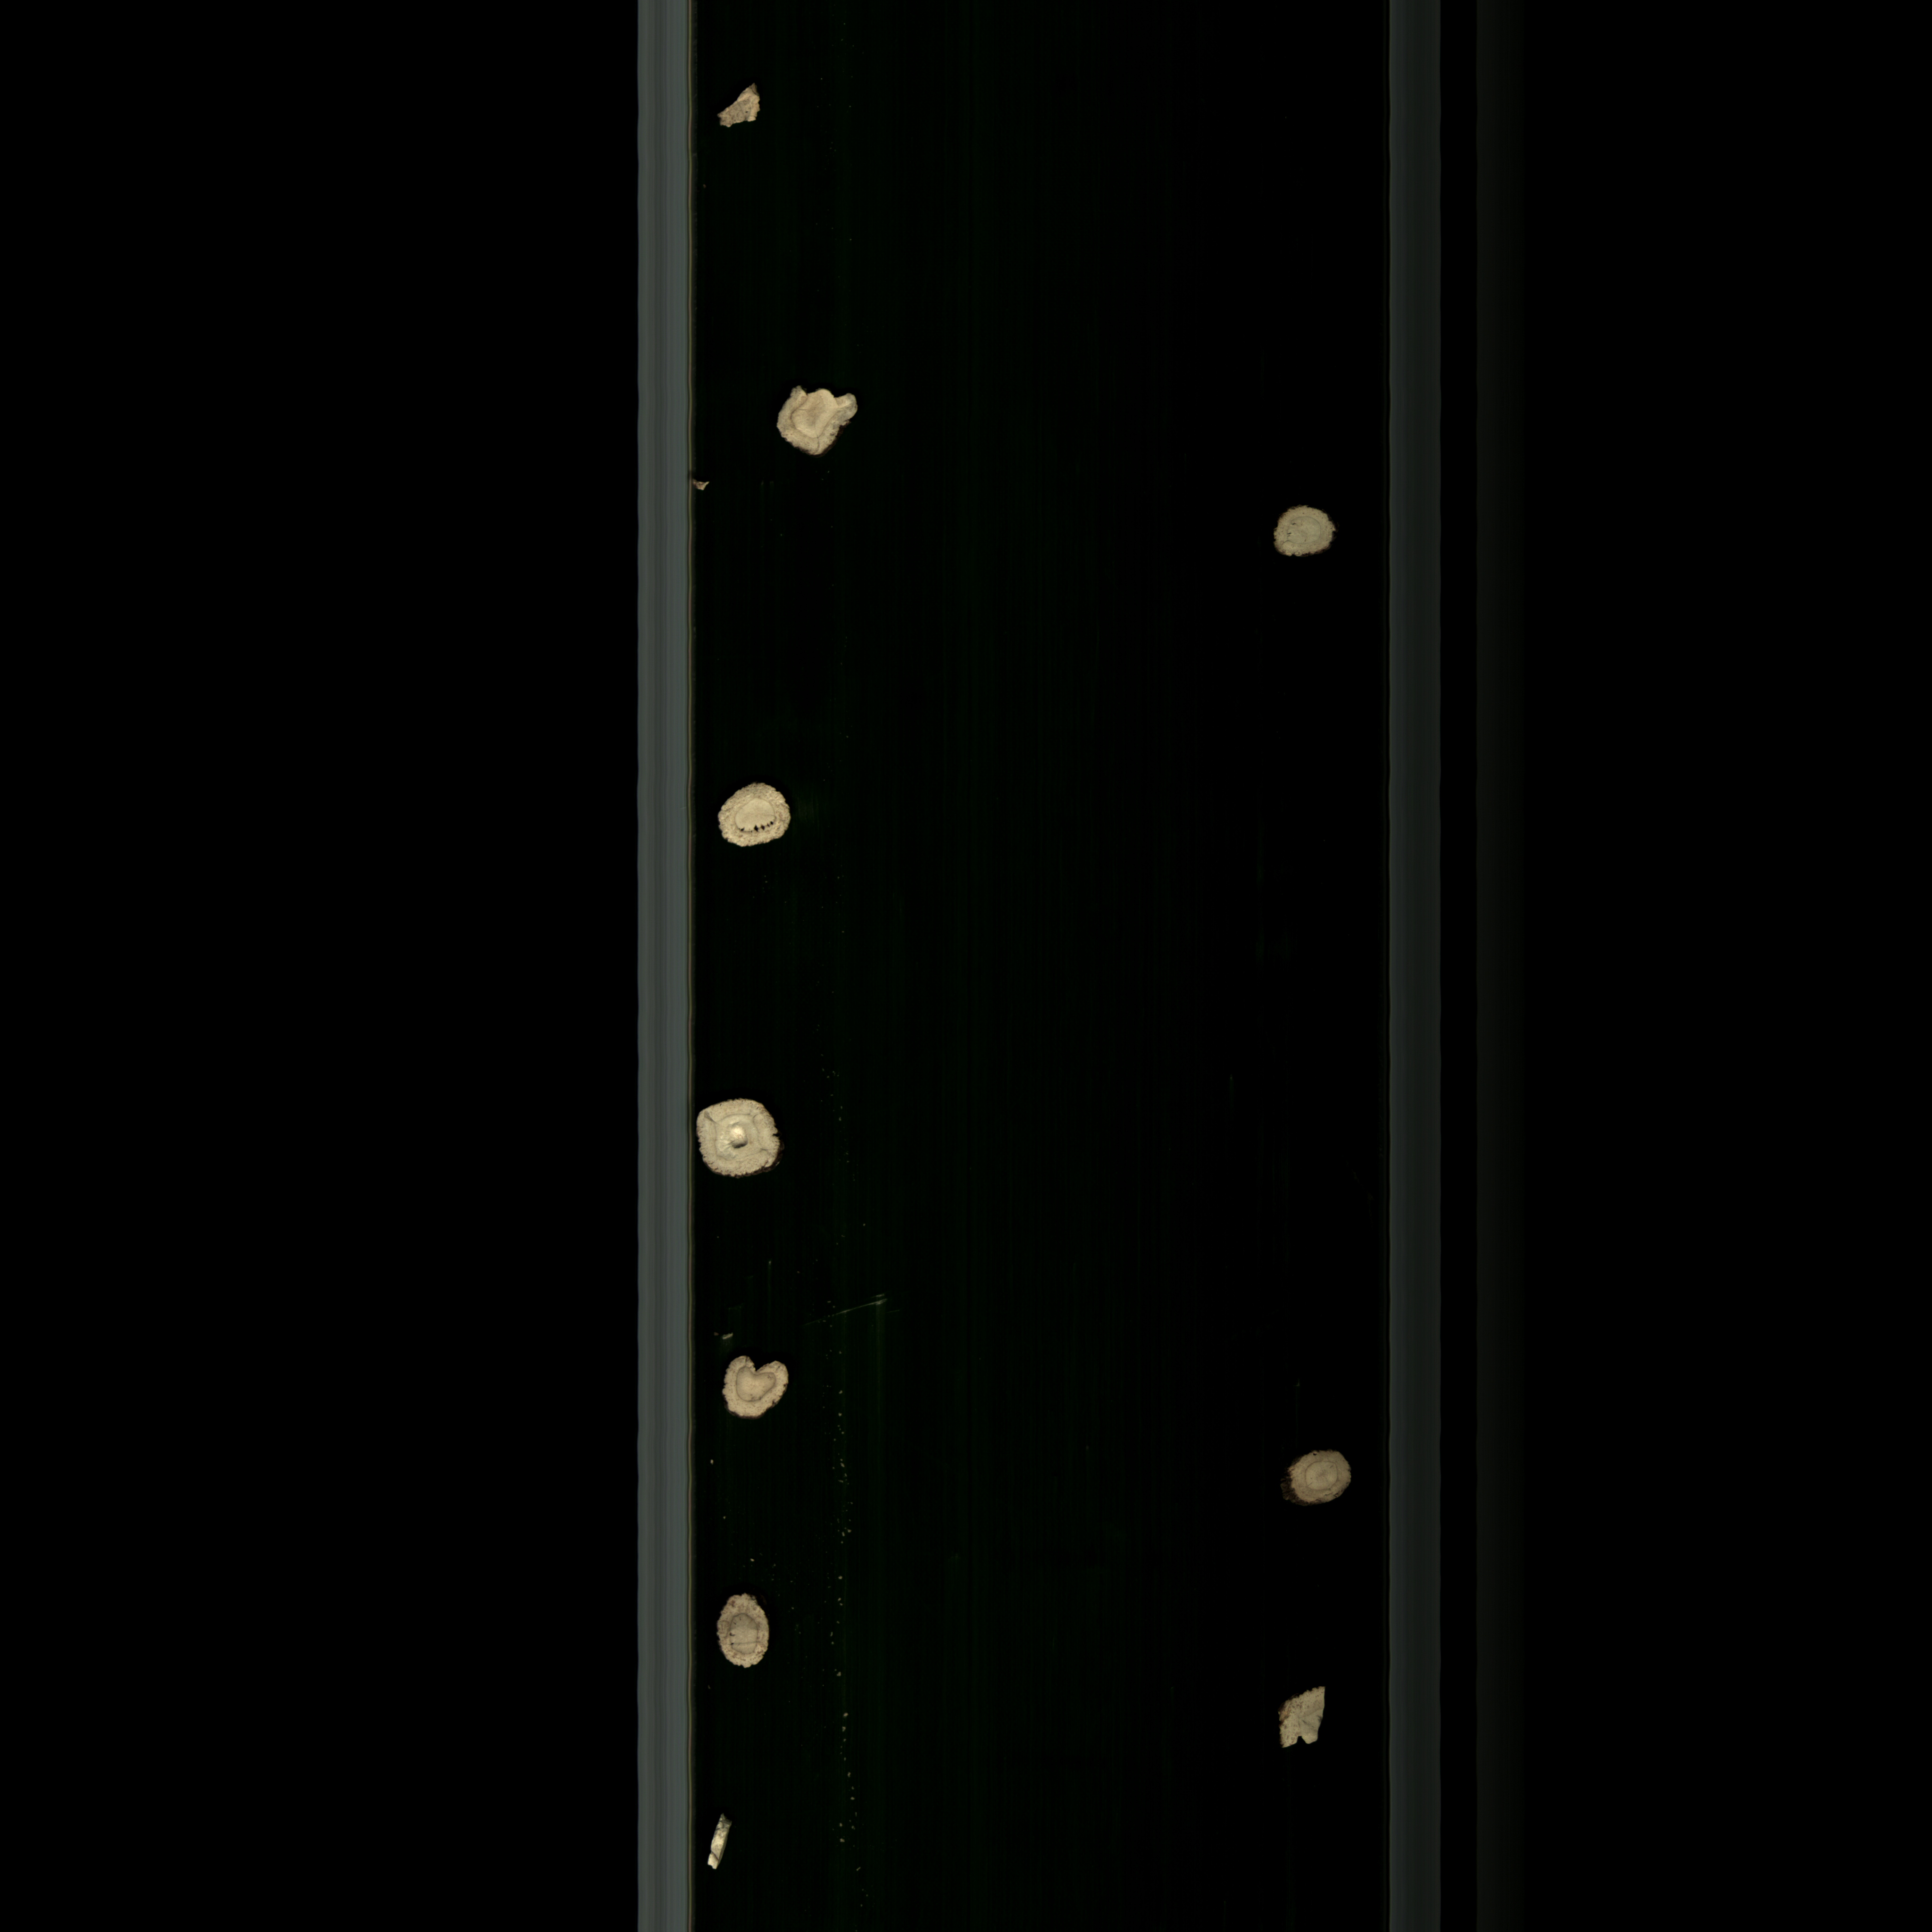debris: (763, 366, 876, 476)
distortion: (706, 1350, 791, 1435), (706, 1589, 782, 1677), (702, 1812, 736, 1882)
dreg: (1270, 1681, 1334, 1757), (713, 76, 770, 136), (690, 474, 727, 502), (718, 1330, 743, 1339)
hole: (692, 1099, 789, 1182), (715, 787, 798, 853)
